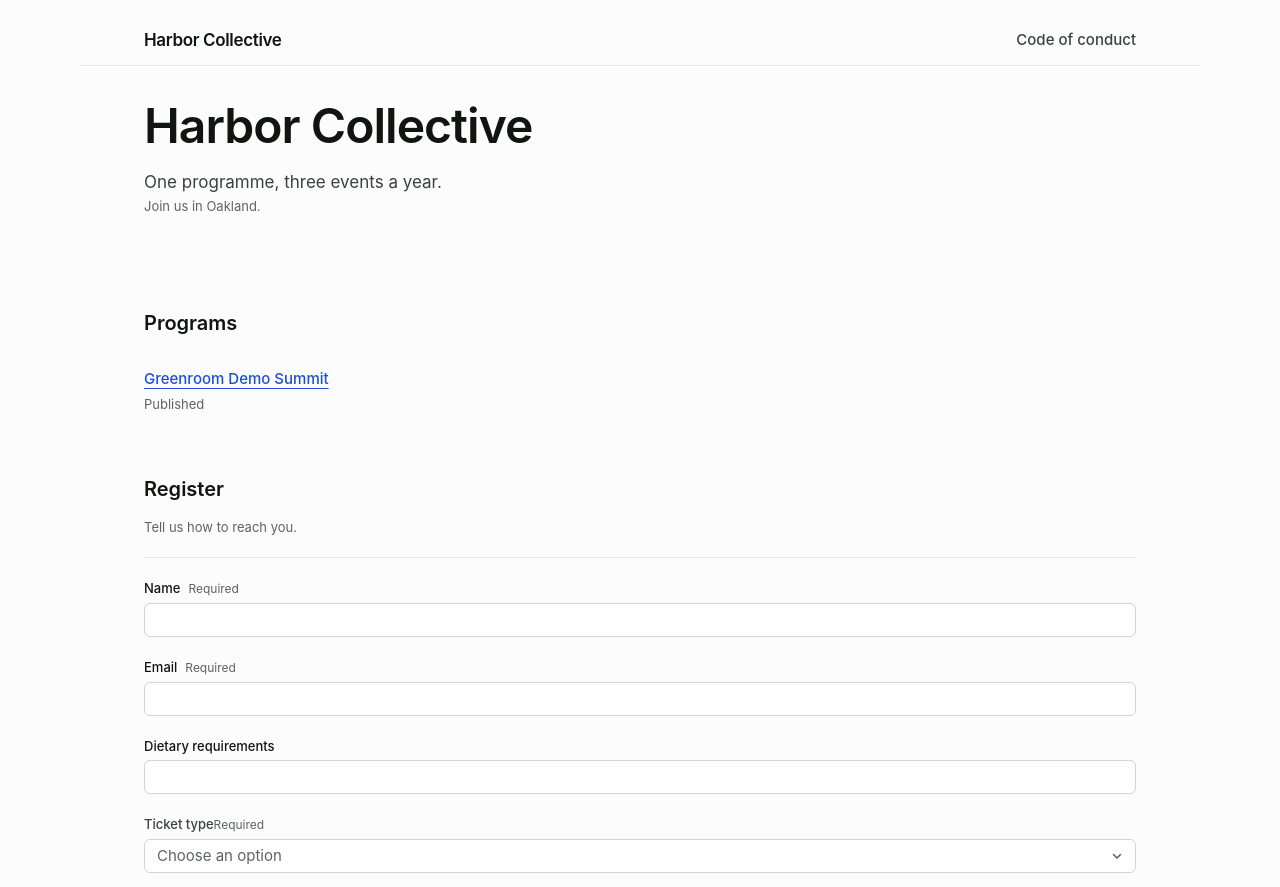
refuses an unanswered required question on the question, before asking the server
Check: the heading "Harbor Collective" is shown, box [144, 96, 532, 155]
Type "Pat Attendee" into the field labelled "Name Required" at (640, 620), box [144, 603, 1136, 637]
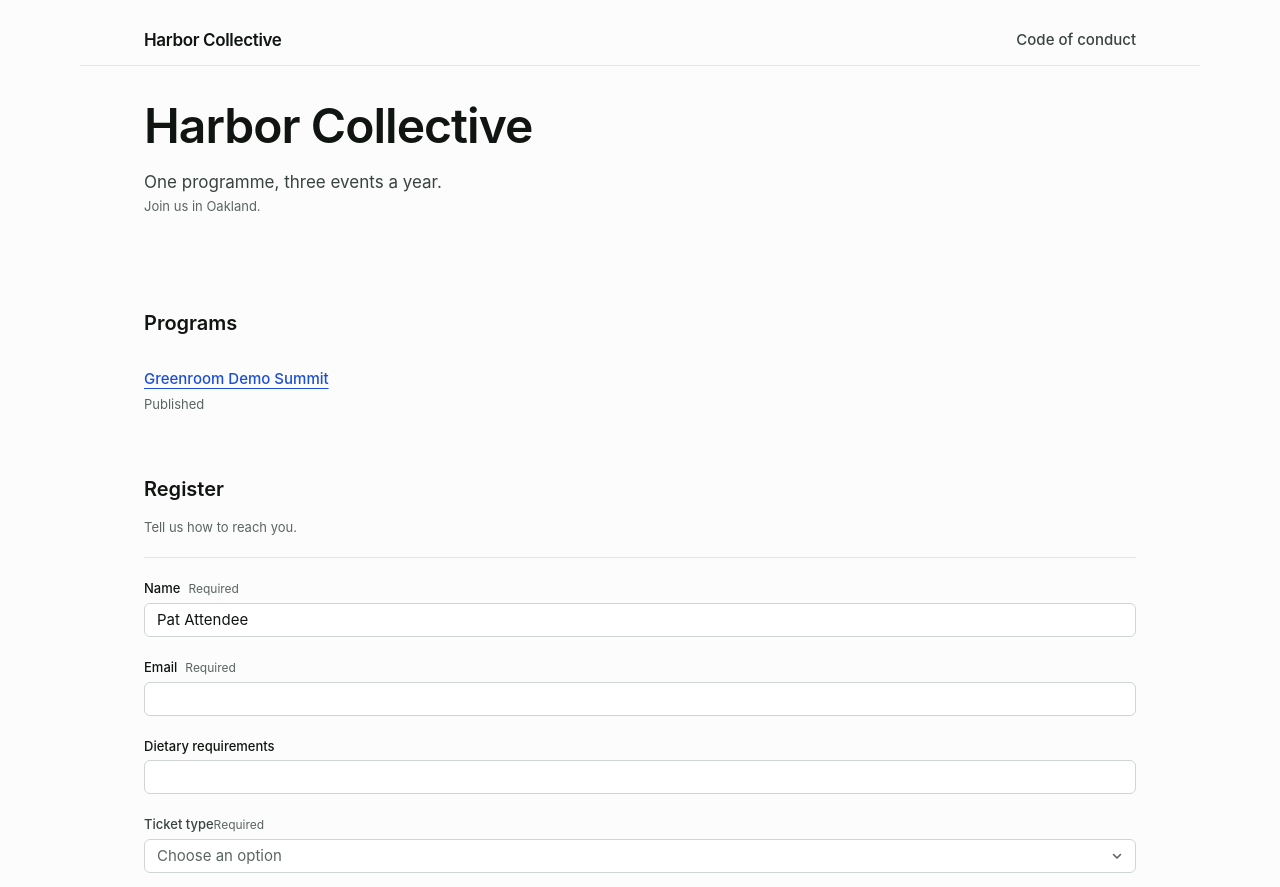
Type "pat@example.com" into the field labelled "Email Required" at (640, 699), box [144, 682, 1136, 716]
(page scrolled)
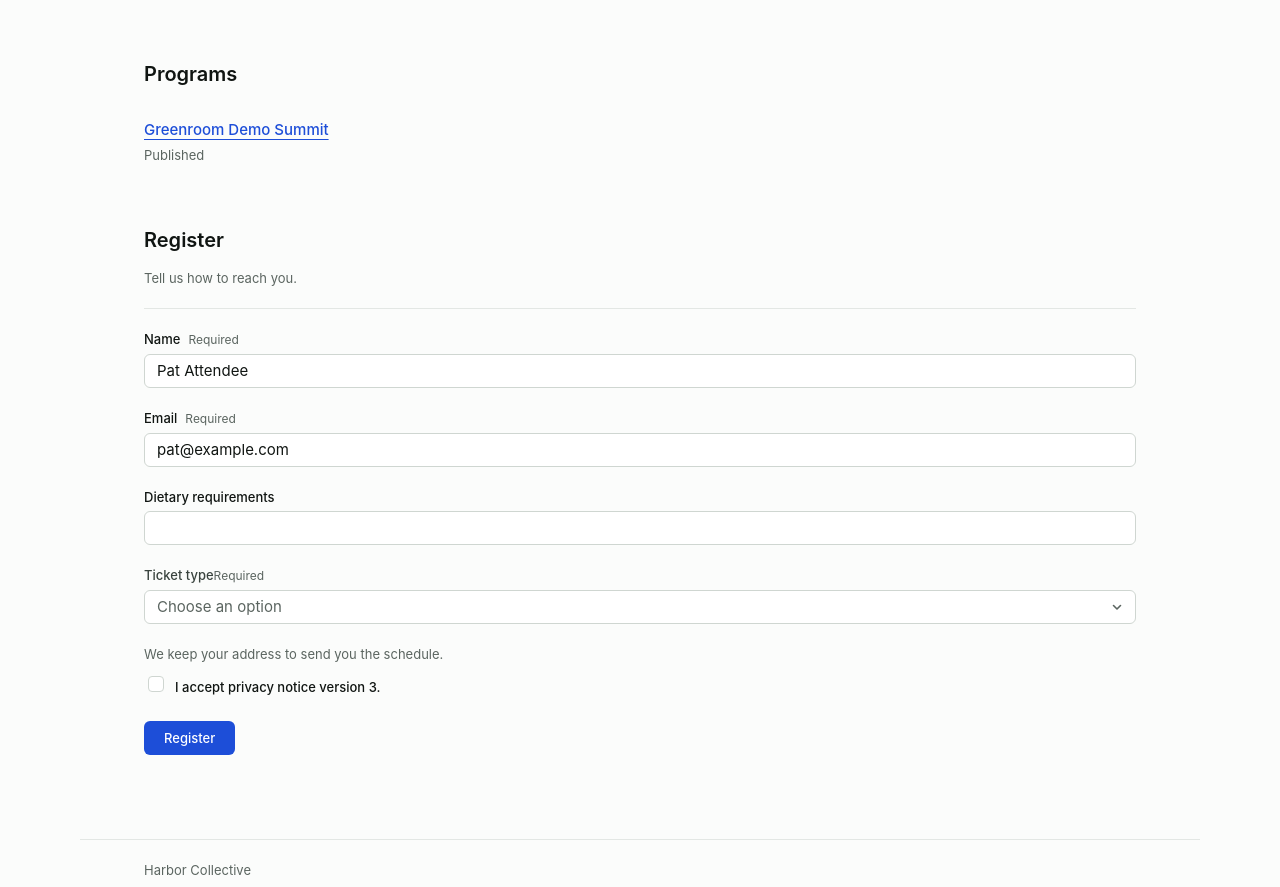
Click the checkbox labelled "I accept privacy notice version 3." at (156, 684), box [148, 676, 164, 692]
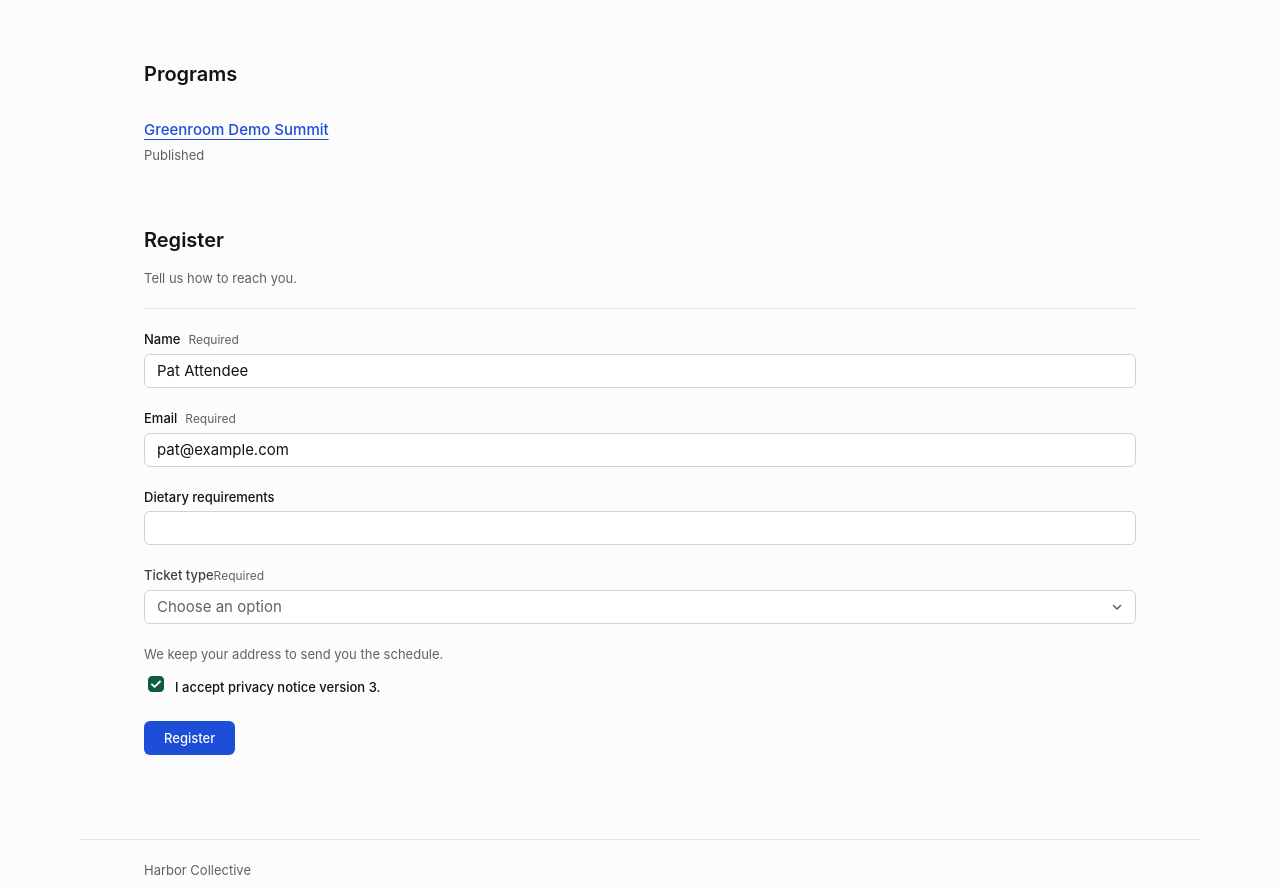
Submit the form from the button "Register", box [144, 721, 235, 755]
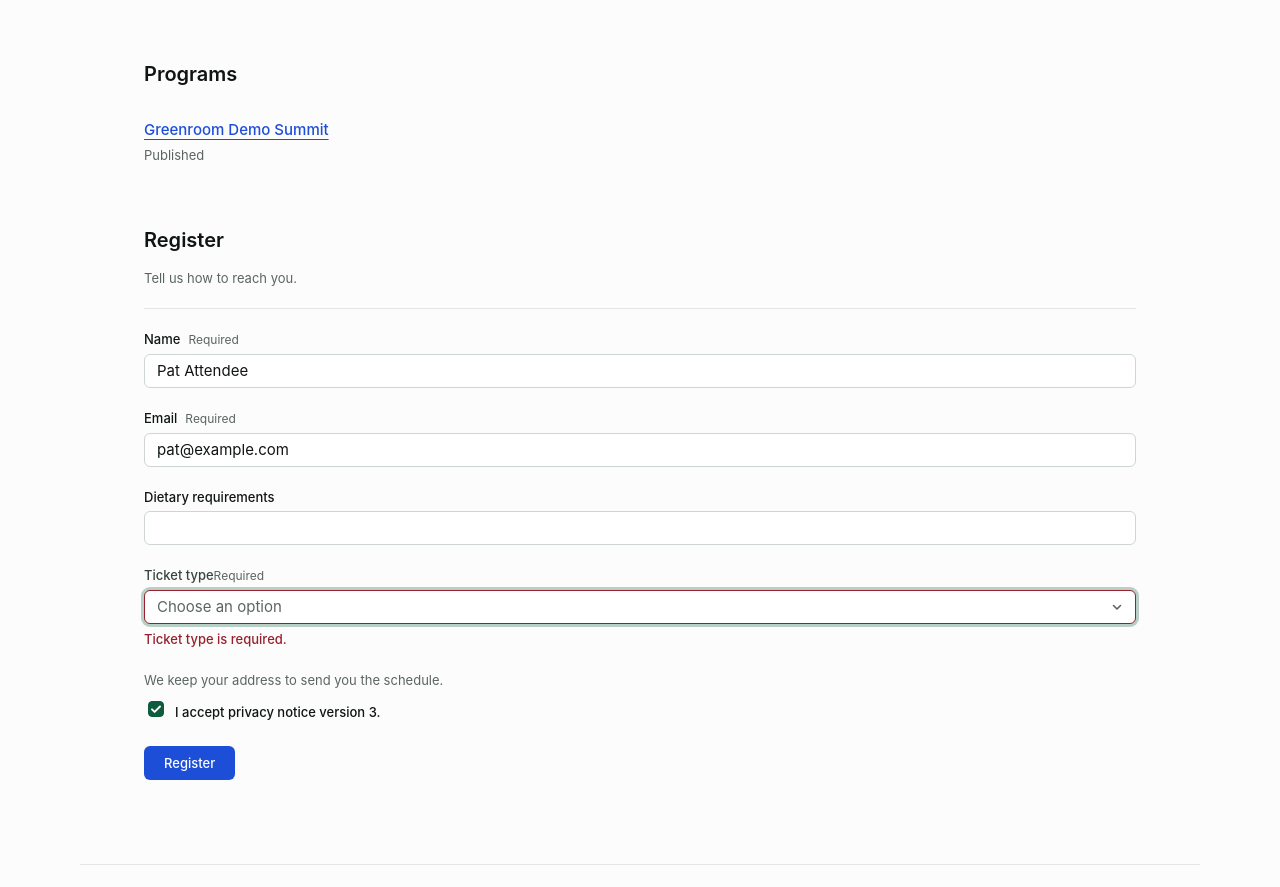
Check: the text "Ticket type is required." is shown, box [144, 631, 287, 647]
# Answering it withdraws the refusal rather than leaving a message that is no longer true.
Press ArrowDown in the dropdown named "Ticket type", box [144, 590, 1136, 624]
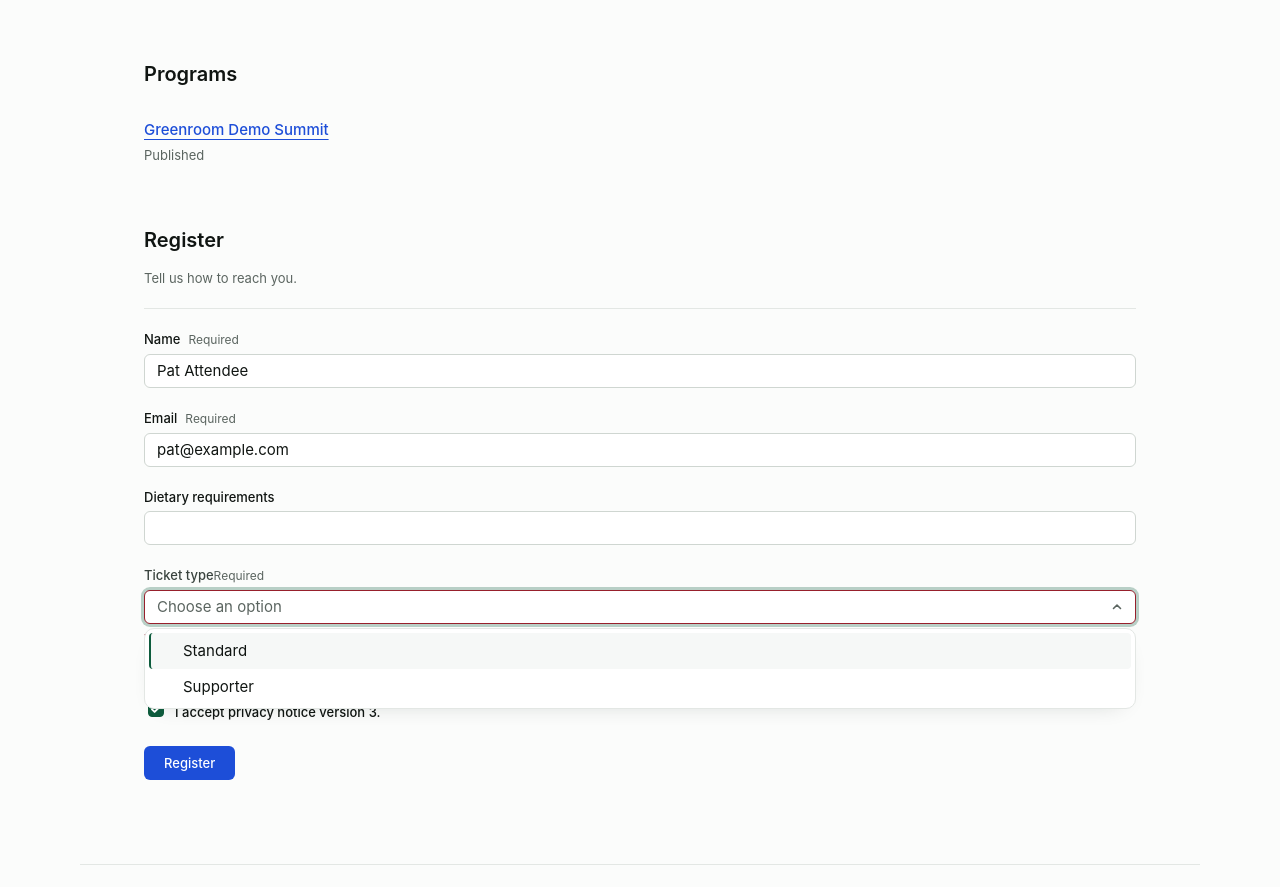
Click the option "Supporter" at (218, 686), box [183, 677, 254, 696]
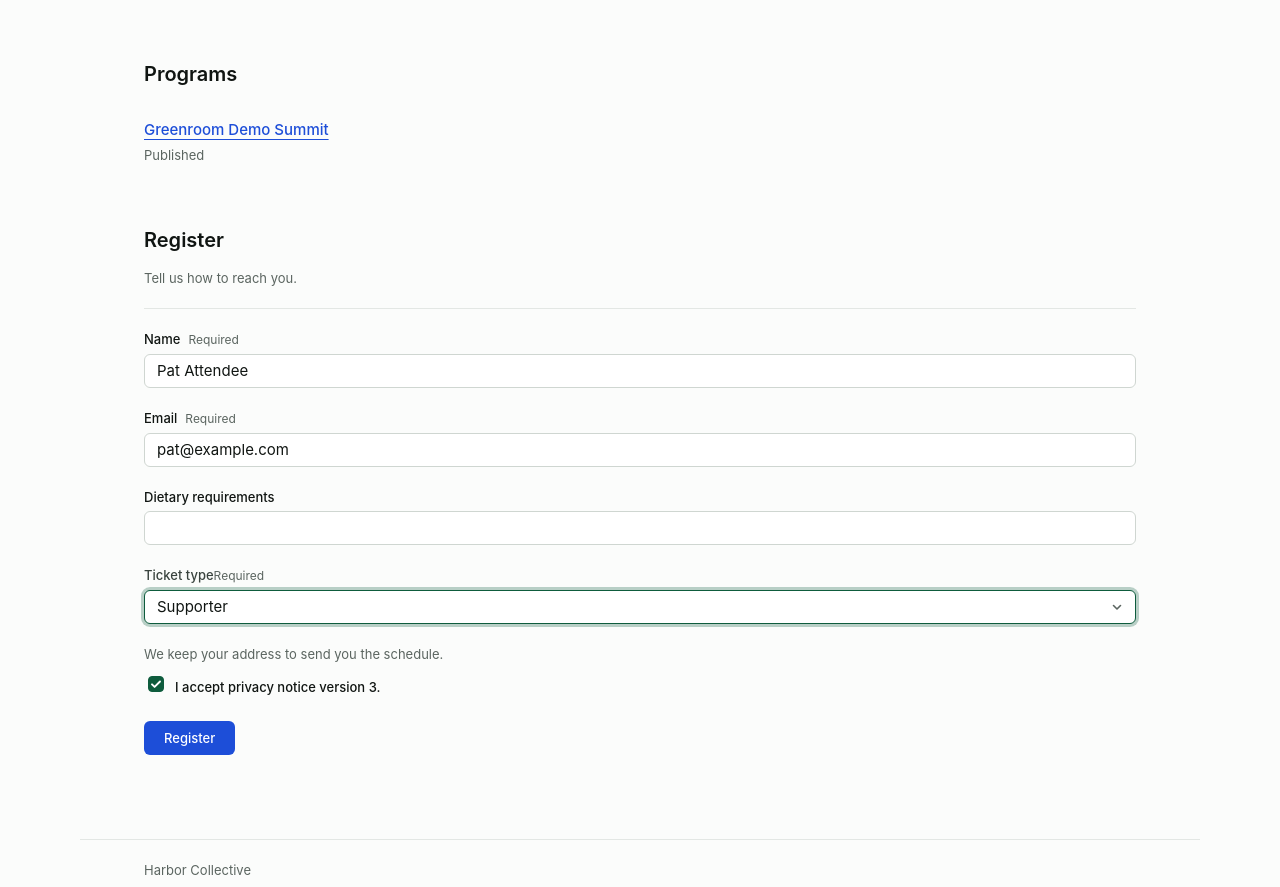
Check: the text "Ticket type is required." is gone
